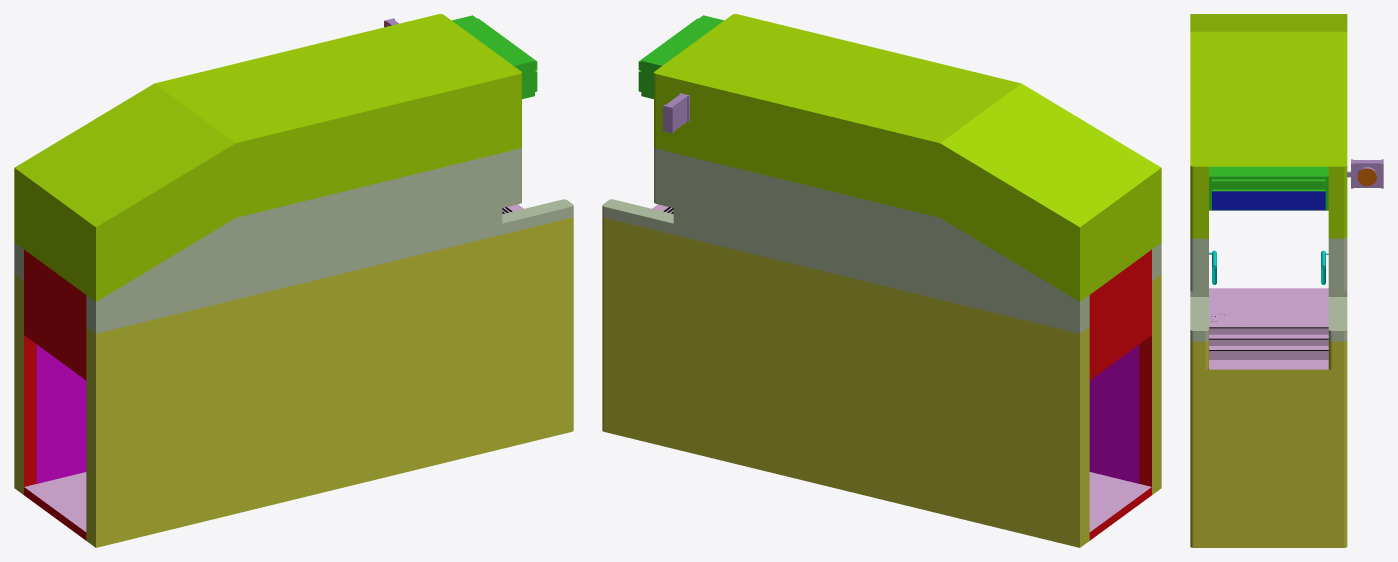
Rendered from MTRv2.fbx.
3 renders of one model, left to right at view 1: azimuth 30°, elevation 25°; view 2: azimuth 150°, elevation 25°; view 3: azimuth 270°, elevation 25°, orthographic. The views are drawn at different scales.
Visible parts, largest first — view 1: Group#49-Entity1718285; view 2: Group#49-Entity1718285; view 3: Group#49-Entity1718285.
Part boxes in pixels (bbox=[...]): Group#49-Entity1718285: bbox=[14, 14, 573, 547]; Group#49-Entity1718285: bbox=[602, 14, 1161, 547]; Group#49-Entity1718285: bbox=[1190, 14, 1383, 547].
Size of the model in its own units: 1135 by 839 by 412.
